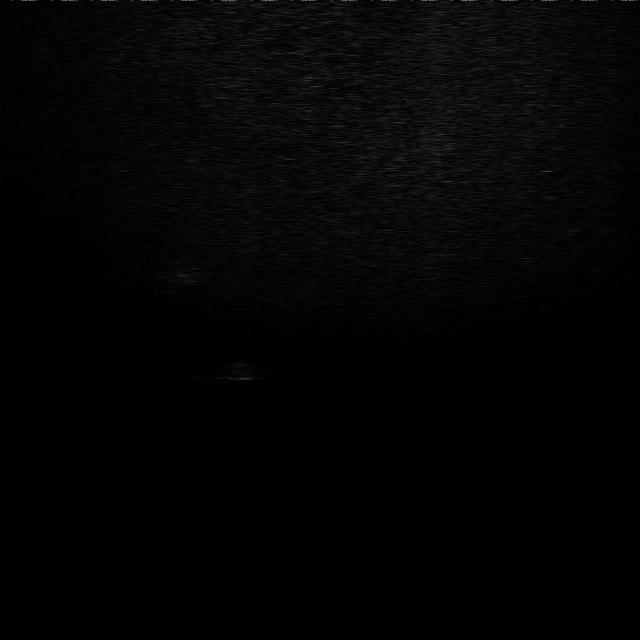circle cage: (151, 250, 215, 295)
tyre: (210, 348, 276, 384)
